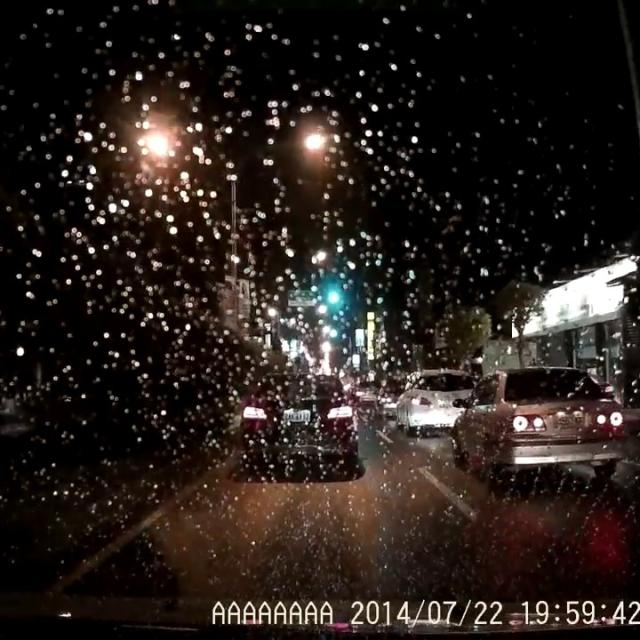Car: (448, 366, 624, 486), (236, 370, 359, 472), (392, 368, 475, 434), (373, 379, 405, 416), (347, 380, 378, 402)
